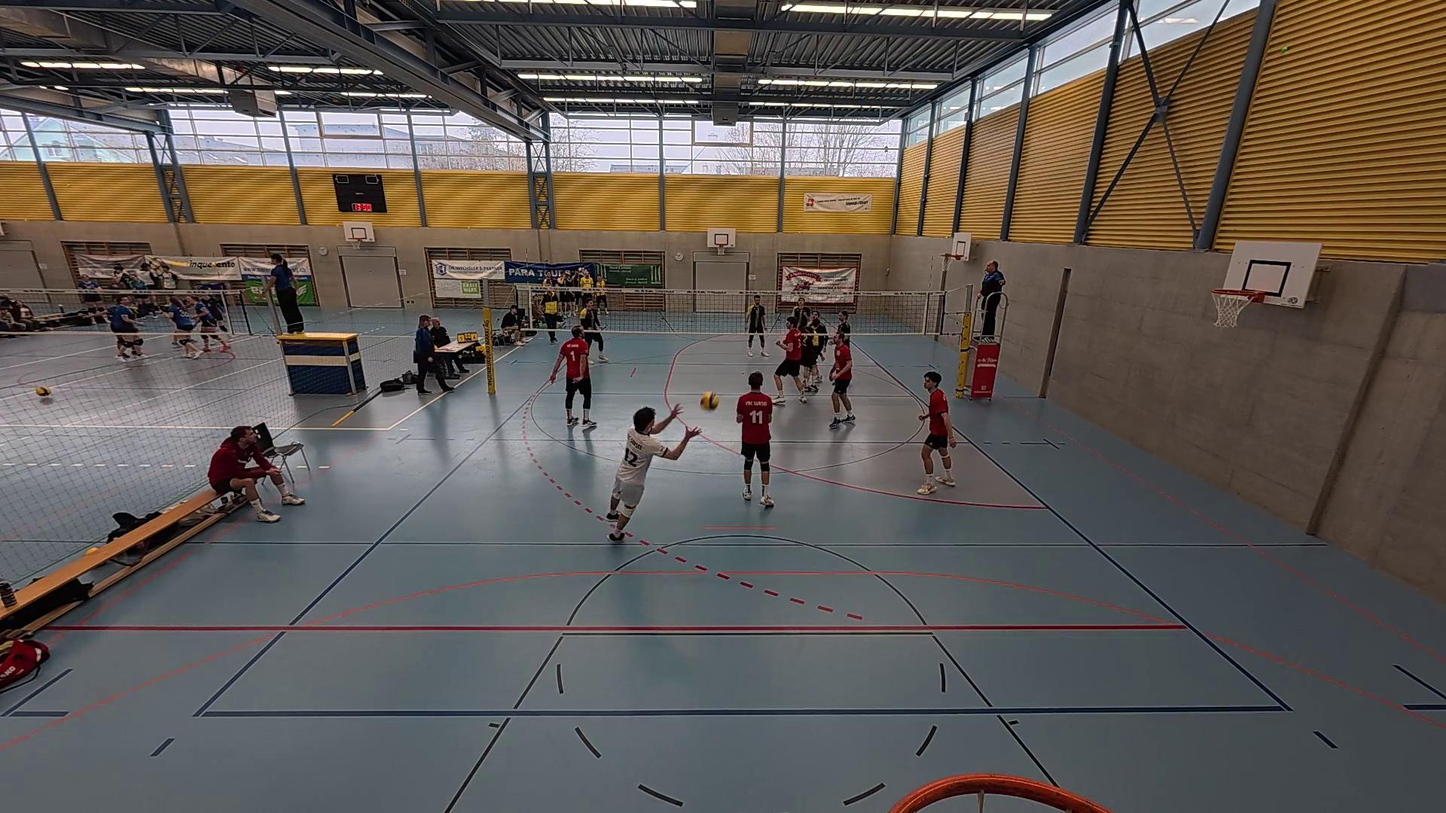Player: (603, 404, 700, 549), (733, 372, 779, 507), (917, 371, 956, 495), (551, 324, 594, 429), (768, 315, 807, 406), (826, 327, 856, 427), (800, 312, 827, 394), (576, 297, 606, 363), (793, 316, 818, 395), (833, 305, 856, 388), (746, 295, 768, 357), (789, 296, 811, 342)
ball: (698, 392, 718, 410)
